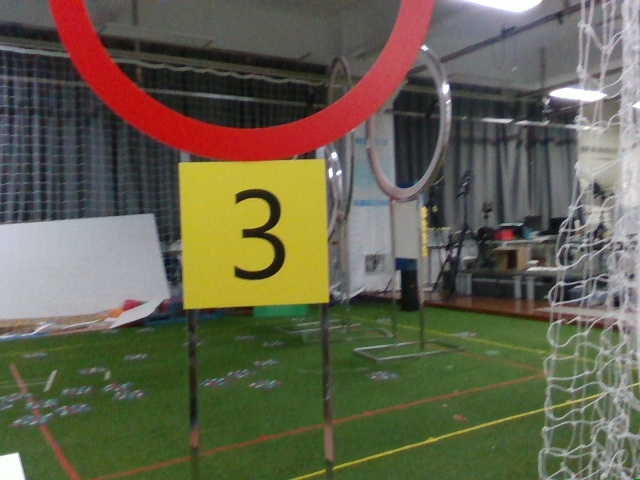target: (183, 171, 322, 305)
